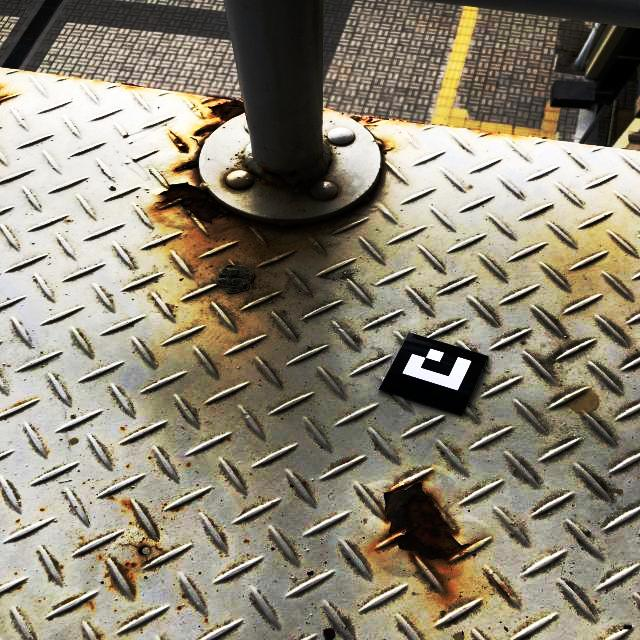Corrosion: (385, 479, 474, 560), (188, 95, 245, 149), (155, 182, 229, 222), (339, 113, 409, 126), (170, 131, 190, 153), (174, 160, 198, 171), (263, 169, 282, 181), (121, 83, 142, 87), (286, 170, 298, 176), (124, 564, 136, 570), (155, 548, 163, 553), (167, 509, 180, 512), (0, 95, 7, 99), (39, 509, 44, 513)
